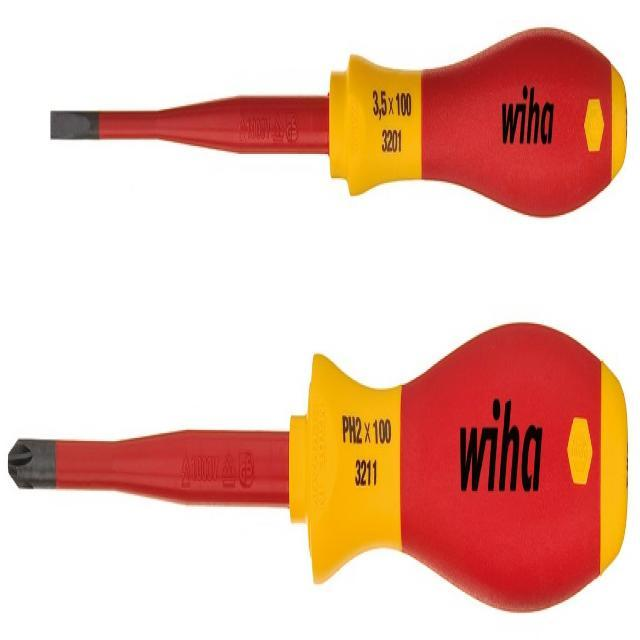screwdriver: (8, 323, 628, 617), (47, 25, 628, 224)
